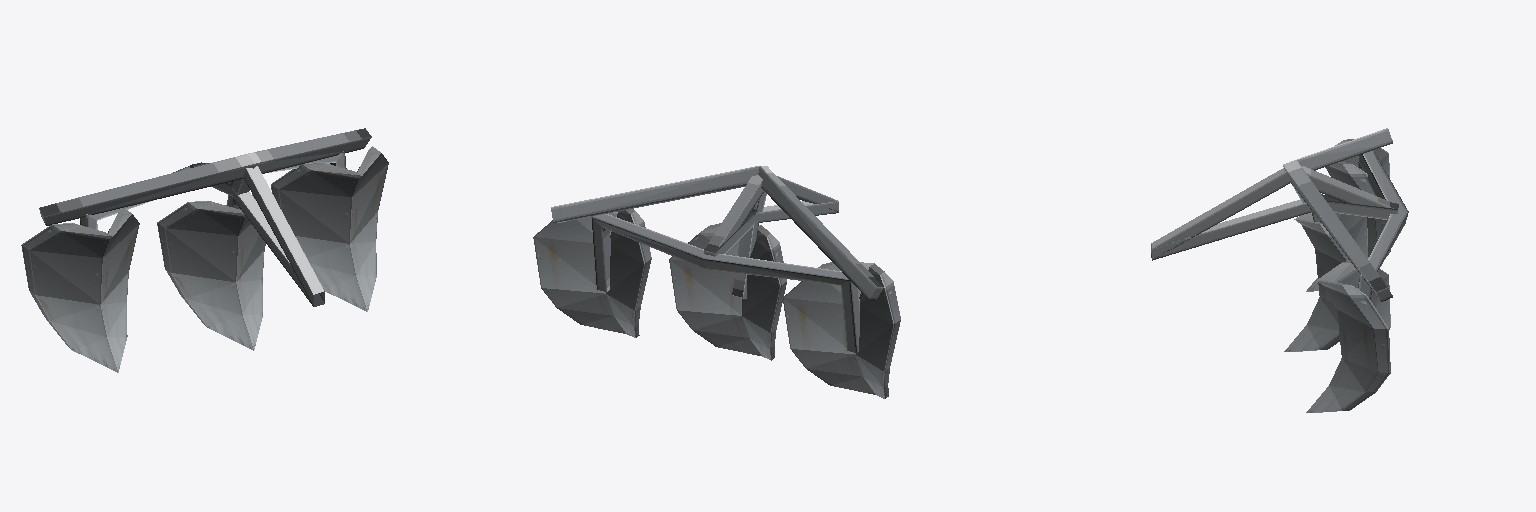
3 views of the same model, side by side, from view 1: azimuth 30°, elevation 25°; view 2: azimuth 150°, elevation 25°; view 3: azimuth 270°, elevation 25° (orthographic).
Visible parts, largest first — view 1: plowk_vShape.004; view 2: plowk_vShape.004; view 3: plowk_vShape.004.
Boxes of the visible parts, <box> form: plowk_vShape.004: <box>21,128,388,372</box>; plowk_vShape.004: <box>533,166,900,398</box>; plowk_vShape.004: <box>1151,128,1408,412</box>.
Size of the model in its own units: 1.88 by 0.9606 by 1.16.
Materials: 7 (1 with a texture image).